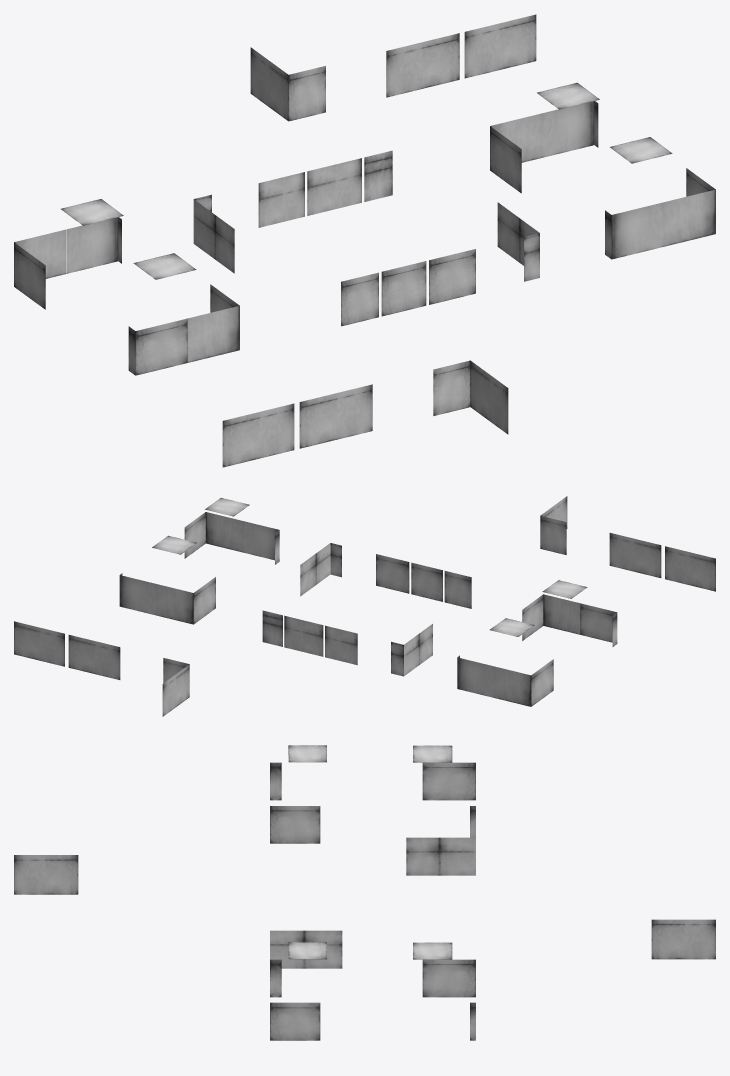
Rendered from SM_HK_02_01_windows.fbx.
The picture shows the model from 3 angles, top to bottom: view 1: azimuth 30°, elevation 25°; view 2: azimuth 150°, elevation 25°; view 3: azimuth 270°, elevation 25°; orthographic projection. The views are drawn at different scales.
Visible parts, largest first — view 1: SM_HK_02_01.011, SM_HK_02_01.031, SM_HK_02_01.032, SM_HK_02_01.010, SM_HK_02_01.015, SM_HK_02_01.008, SM_HK_02_01.023, SM_HK_02_01.025, SM_HK_02_01.007, SM_HK_02_01.037, SM_HK_02_01.020, SM_HK_02_01.003 (+19 smaller); view 2: SM_HK_02_01.011, SM_HK_02_01.031, SM_HK_02_01.010, SM_HK_02_01.032, SM_HK_02_01.015, SM_HK_02_01.020, SM_HK_02_01.021, SM_HK_02_01.025, SM_HK_02_01.035, SM_HK_02_01.037, SM_HK_02_01.008, SM_HK_02_01.003 (+22 smaller); view 3: SM_HK_02_01.018, SM_HK_02_01.013, SM_HK_02_01.030, SM_HK_02_01.005, SM_HK_02_01.022, SM_HK_02_01.038, SM_HK_02_01.009, SM_HK_02_01.026, SM_HK_02_01.027, SM_HK_02_01.040, SM_HK_02_01.028, SM_HK_02_01.039.
Boxes of the visible parts, <box> form: SM_HK_02_01.011: <box>386,33,459,97</box>; SM_HK_02_01.031: <box>299,384,372,448</box>; SM_HK_02_01.032: <box>222,403,294,467</box>; SM_HK_02_01.010: <box>464,14,536,78</box>; SM_HK_02_01.015: <box>307,158,361,215</box>; SM_HK_02_01.008: <box>663,189,715,246</box>; SM_HK_02_01.023: <box>135,318,187,375</box>; SM_HK_02_01.025: <box>187,305,239,362</box>; SM_HK_02_01.007: <box>611,202,663,259</box>; SM_HK_02_01.037: <box>542,101,594,157</box>; SM_HK_02_01.020: <box>66,217,118,273</box>; SM_HK_02_01.003: <box>429,249,475,304</box>; SM_HK_02_01.011: <box>68,635,120,679</box>; SM_HK_02_01.031: <box>609,533,661,577</box>; SM_HK_02_01.010: <box>14,621,64,666</box>; SM_HK_02_01.032: <box>665,546,715,591</box>; SM_HK_02_01.015: <box>284,615,323,656</box>; SM_HK_02_01.020: <box>457,657,494,697</box>; SM_HK_02_01.021: <box>494,666,531,706</box>; SM_HK_02_01.025: <box>543,594,580,634</box>; SM_HK_02_01.035: <box>156,584,193,624</box>; SM_HK_02_01.037: <box>119,575,156,615</box>; SM_HK_02_01.008: <box>206,512,242,552</box>; SM_HK_02_01.003: <box>376,554,409,593</box>; SM_HK_02_01.018: <box>406,837,475,875</box>; SM_HK_02_01.013: <box>651,919,715,959</box>; SM_HK_02_01.030: <box>14,855,78,894</box>; SM_HK_02_01.005: <box>270,930,342,968</box>; SM_HK_02_01.022: <box>422,762,475,800</box>; SM_HK_02_01.038: <box>422,959,475,997</box>; SM_HK_02_01.009: <box>270,1002,320,1040</box>; SM_HK_02_01.026: <box>270,806,320,843</box>; SM_HK_02_01.027: <box>413,745,452,762</box>; SM_HK_02_01.040: <box>413,942,452,959</box>; SM_HK_02_01.028: <box>288,745,326,762</box>; SM_HK_02_01.039: <box>288,942,326,959</box>.
Size of the model in its own units: 3353 by 409 by 3688.
